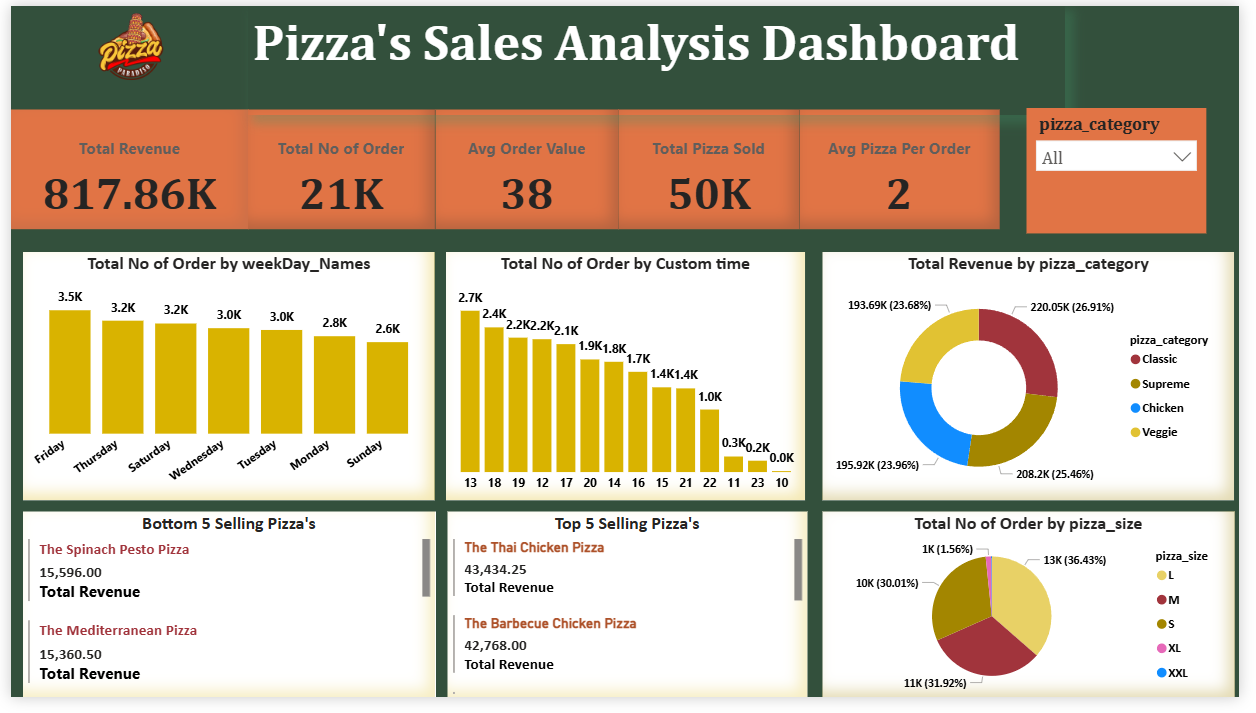

What the dashboard file says about the page in this screenshot:
{"tool":"powerbi","page":{"name":"Page 1","canvas":[1280,720],"ordinal":0},"visuals":[{"type":"cardVisual","fields":{"Data":["measures (2).Total Revenue"]},"box":[0,107.7,247.6,124.7],"z":0},{"type":"cardVisual","fields":{"Data":["measures (2).Total No of Order"]},"box":[247.6,107.7,194.6,124.7],"z":1000},{"type":"cardVisual","fields":{"Data":["measures (2).Avg Order Value"]},"box":[442.2,107.7,190.9,124.7],"z":2000},{"type":"cardVisual","fields":{"Data":["measures (2).Total Pizza Sold"]},"box":[633.1,107.7,189,124.7],"z":3000},{"type":"cardVisual","fields":{"Data":["measures (2).Avg Pizza Per Order"]},"box":[822.1,107.7,207.9,124.7],"z":4000},{"type":"textbox","box":[247.6,0,850.4,113.4],"z":5000},{"type":"image","box":[62.4,0,124.7,83.2],"z":6000},{"type":"slicer","fields":{"Values":["pizza_sales.pizza_category"]},"box":[1058.3,105.8,187.1,130.4],"z":7000},{"type":"columnChart","fields":{"Category":["pizza_sales.weekDay_Names"],"Y":["measures (2).Total No of Order"]},"box":[13.2,257,429,258.9],"z":8000},{"type":"columnChart","fields":{"Category":["pizza_sales.Custom time"],"Y":["measures (2).Total No of Order"]},"box":[453.5,257,374.2,258.9],"z":9000},{"type":"donutChart","fields":{"Category":["pizza_sales.pizza_category"],"Y":["measures (2).Total Revenue"]},"box":[844.7,257,429,258.9],"z":10000},{"type":"multiRowCard","title":"Bottom 5 Selling Pizza''s","fields":{"Values":["measures (2).Total Revenue","pizza_sales.pizza_name"]},"box":[13,526,429,194],"z":11000},{"type":"multiRowCard","title":"Top 5 Selling Pizza''s","fields":{"Values":["measures (2).Total Revenue","pizza_sales.pizza_name"]},"box":[454,526,374,194],"z":12000},{"type":"pieChart","fields":{"Category":["pizza_sales.pizza_size"],"Y":["measures (2).Total No of Order"]},"box":[845,526,429,194],"z":13000}]}

Visuals, with their boxes in screenshot pixels (x1, y1, x2, y2), scaled from the page's 1280x720 canvas onto the 1256x713 screenshot:
cardVisual - measures (2).Total Revenue: 0, 107, 243, 230
cardVisual - measures (2).Total No of Order: 243, 107, 434, 230
cardVisual - measures (2).Avg Order Value: 434, 107, 621, 230
cardVisual - measures (2).Total Pizza Sold: 621, 107, 807, 230
cardVisual - measures (2).Avg Pizza Per Order: 807, 107, 1011, 230
textbox: 243, 0, 1077, 112
image: 61, 0, 184, 82
slicer - pizza_sales.pizza_category: 1038, 105, 1222, 234
columnChart - pizza_sales.weekDay_Names x measures (2).Total No of Order: 13, 255, 434, 511
columnChart - pizza_sales.Custom time x measures (2).Total No of Order: 445, 255, 812, 511
donutChart - pizza_sales.pizza_category x measures (2).Total Revenue: 829, 255, 1250, 511
"Bottom 5 Selling Pizza''s" multiRowCard: 13, 521, 434, 712
"Top 5 Selling Pizza''s" multiRowCard: 445, 521, 812, 712
pieChart - pizza_sales.pizza_size x measures (2).Total No of Order: 829, 521, 1250, 712
